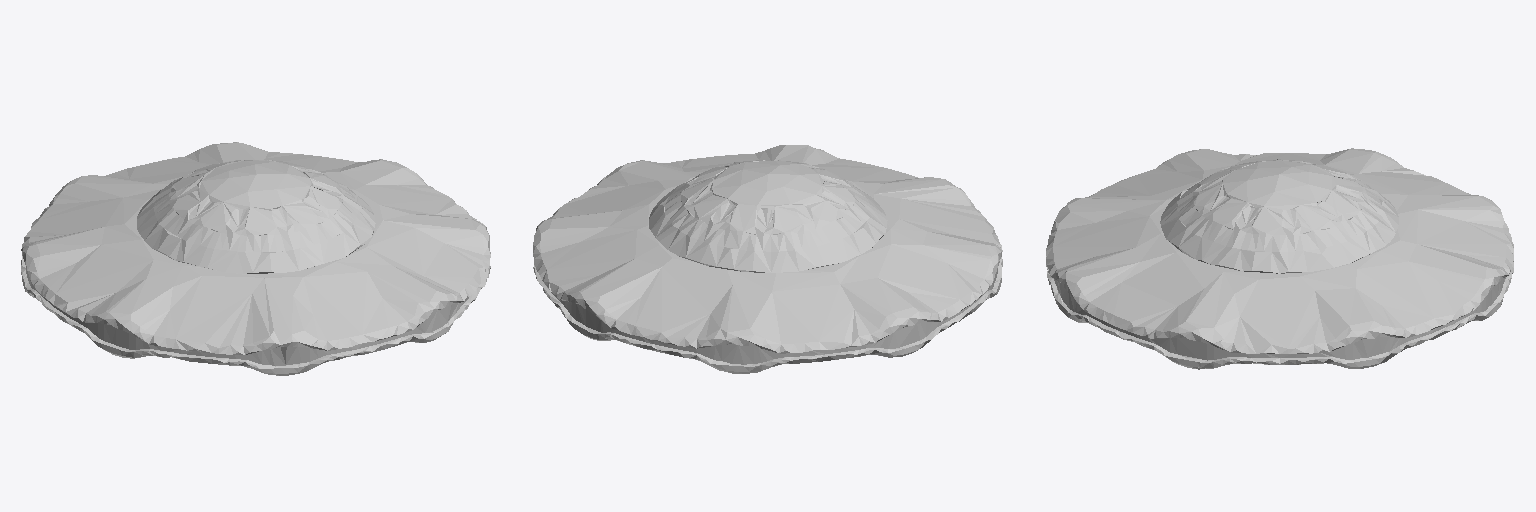
The model's file is frame_004.obj.
3 renders of one model, left to right at view 1: azimuth 30°, elevation 25°; view 2: azimuth 150°, elevation 25°; view 3: azimuth 270°, elevation 25°, orthographic.
Parts seen in each view (by area): view 1: 13884_UFO_Saucer_v1_l2; view 2: 13884_UFO_Saucer_v1_l2; view 3: 13884_UFO_Saucer_v1_l2.
Boxes of the visible parts, x1=… form: 13884_UFO_Saucer_v1_l2: x1=21, y1=142, x2=490, y2=375; 13884_UFO_Saucer_v1_l2: x1=533, y1=145, x2=1002, y2=373; 13884_UFO_Saucer_v1_l2: x1=1046, y1=148, x2=1513, y2=369.
Bounding box in the file's own units: 12.69 × 4.88 × 12.7.